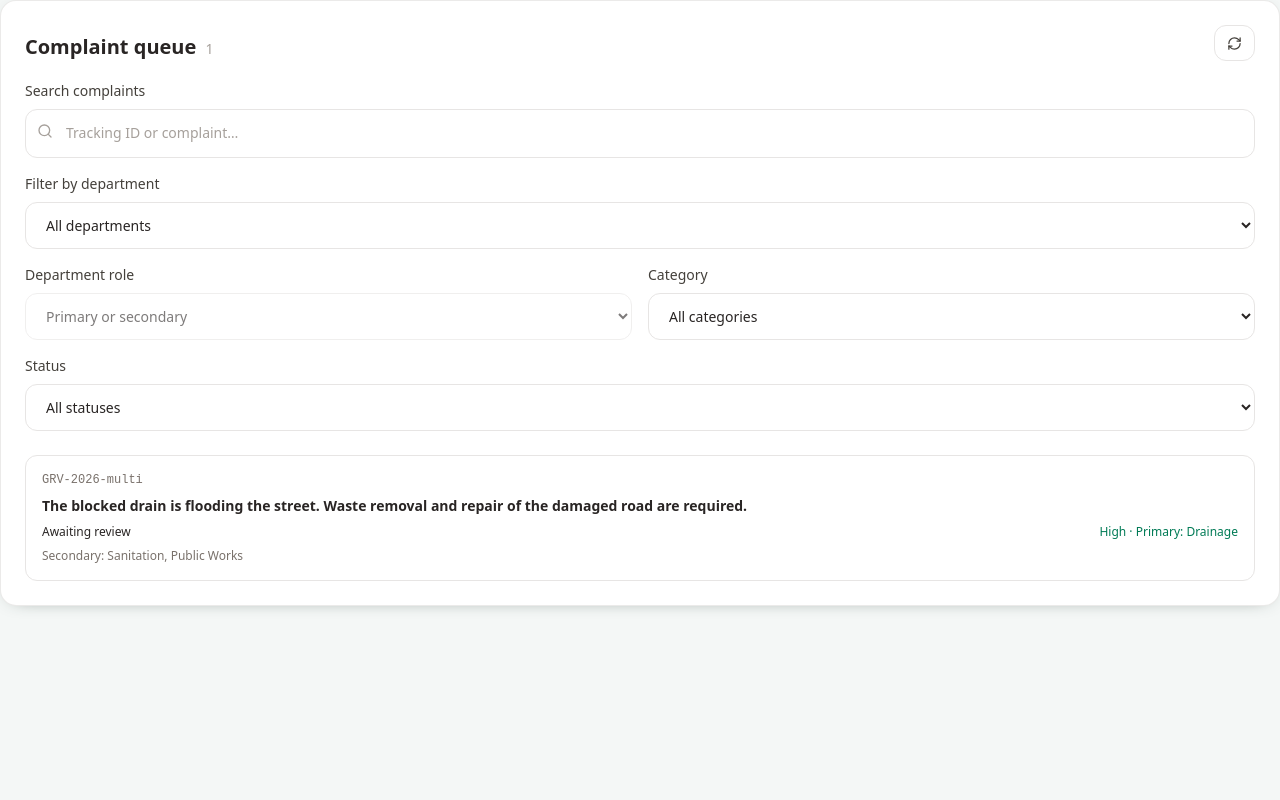
Test case: a failed department filter does not display complaints from the previous queue
Expected: the button "GRV-2026-multi" is shown, [25,455,1255,581]
Select "Sanitation" in the dropdown labelled "Filter by department". click: [640, 225]
box: [25,202,1255,249]
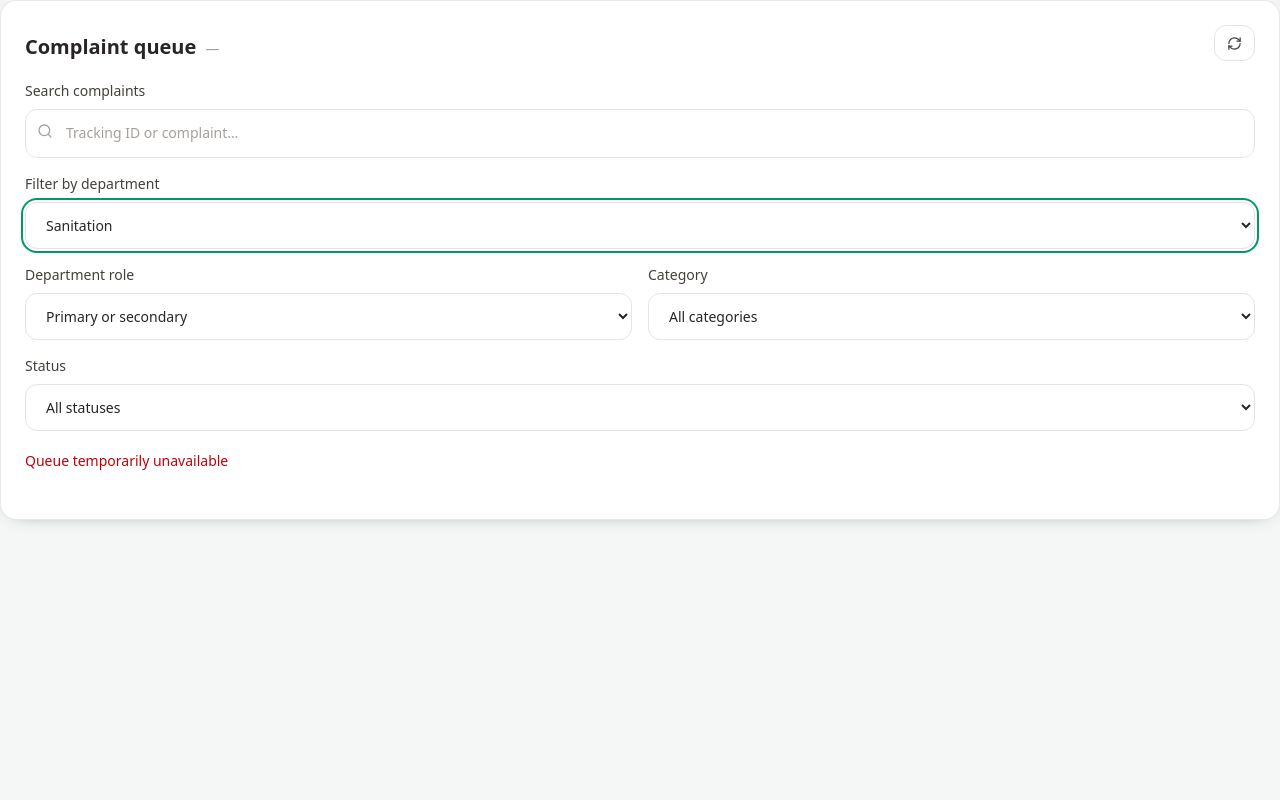
Result: the message reads "Queue temporarily unavailable" at [25,451,228,470]
Result: the button "GRV-2026-multi" is gone
